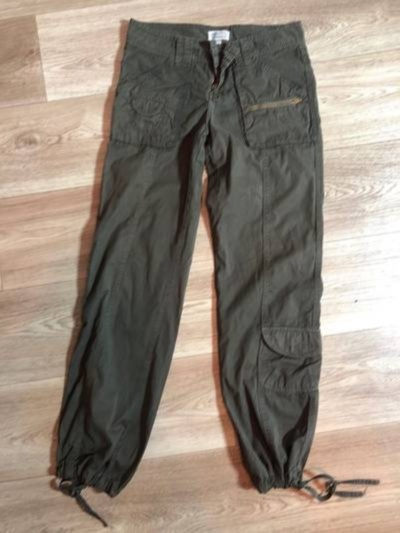Pants: (37, 33, 350, 515)
